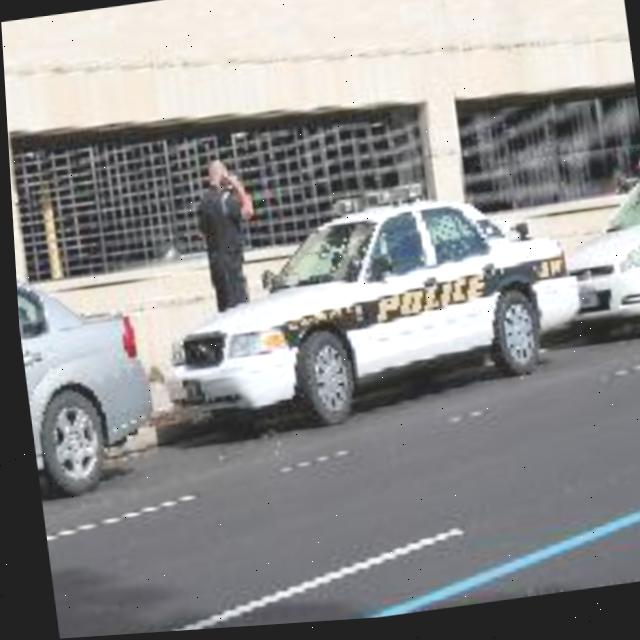emergency: (177, 193, 587, 421)
